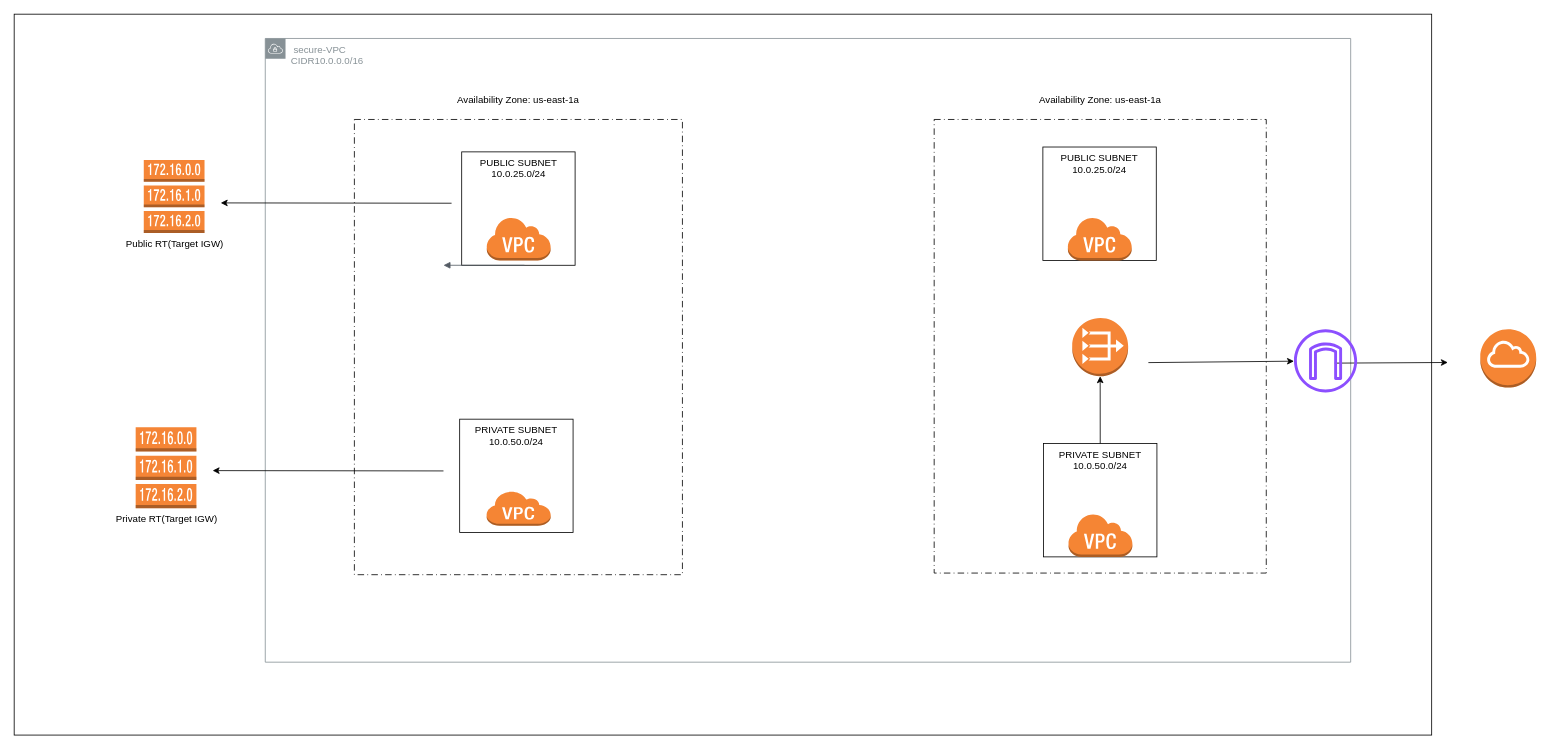
The diagram is 1550 pixels wide and 749 high, and some of its shapes have lost their labels. Each missing label, with the centre of its shape:
Gateway: (x=1325, y=360)
Internet: (x=1507, y=358)
Nat Gateway: (x=1099, y=346)
